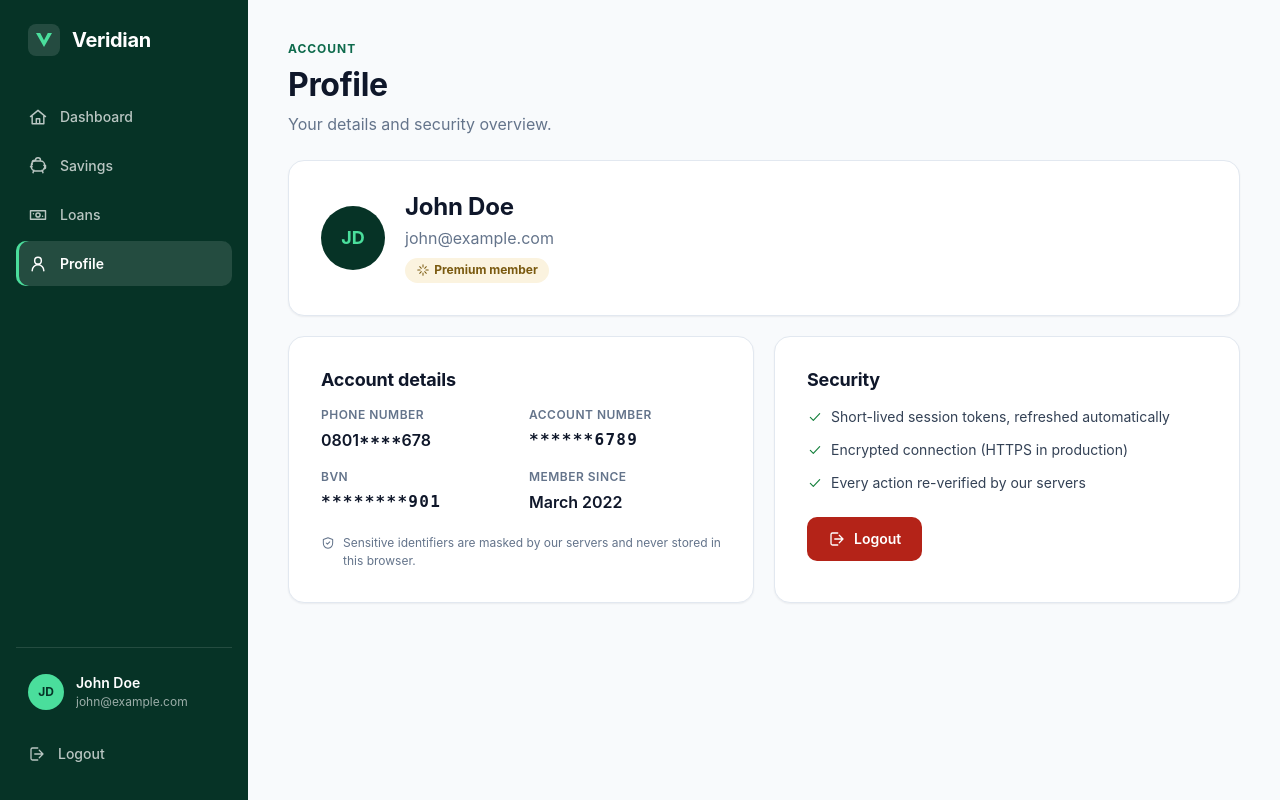
Test case: application flows › logs out, clears the session and returns to /login
This screenshot has width=1280, height=800.
Expected: the text "******6789" is shown, [529,430,638,449]
Click the button "Logout" below "Every action re-verified by our servers" at (865, 539), box [807,517,922,561]
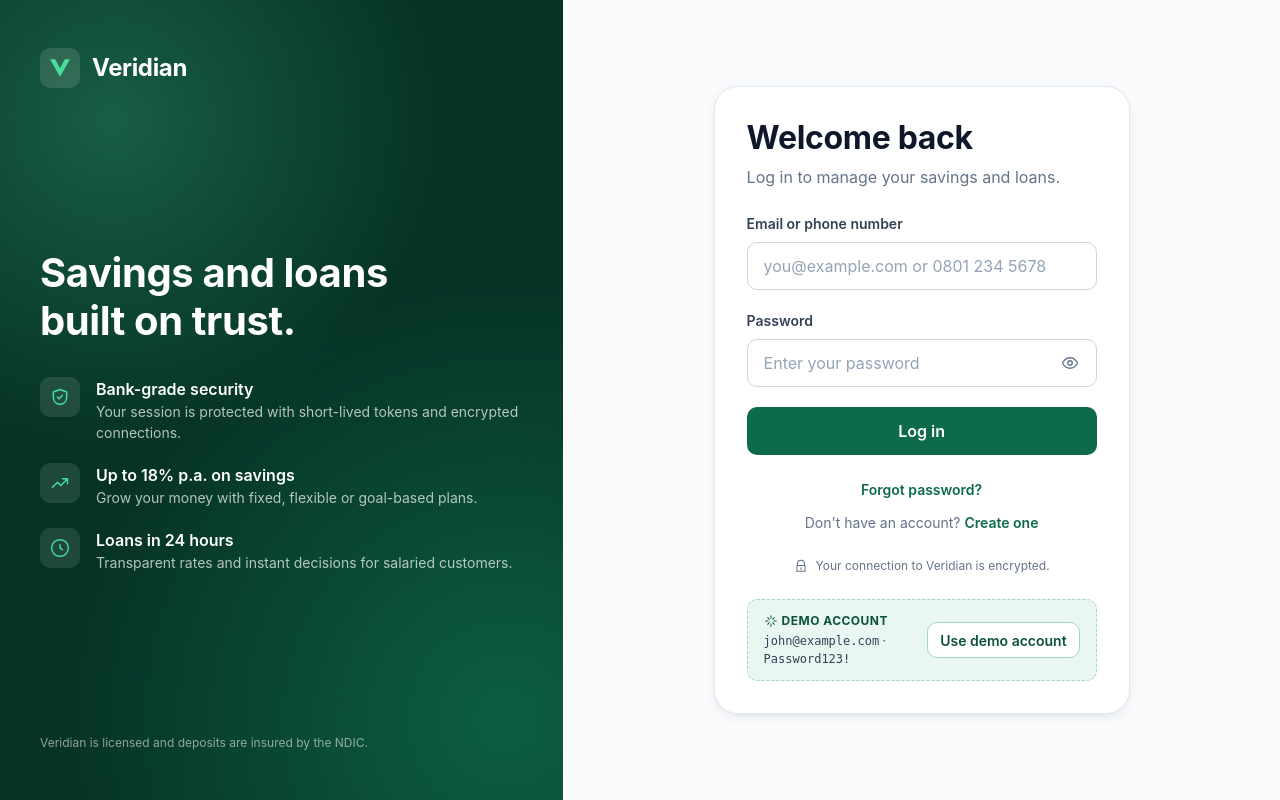
Expected: the heading "Welcome back" is shown, [747,118,973,157]
